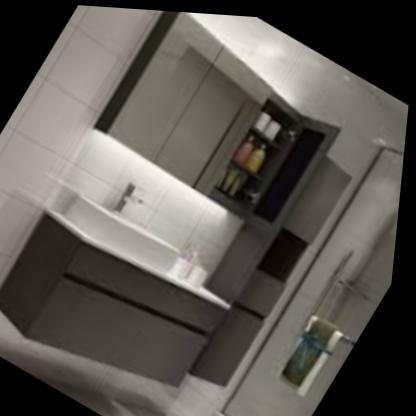Cabinet: (0, 203, 243, 416), (84, 5, 290, 199)
